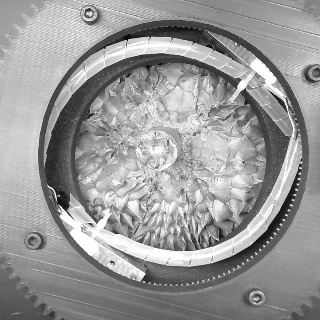base: (150, 121, 192, 176)
end: (136, 130, 178, 172)
